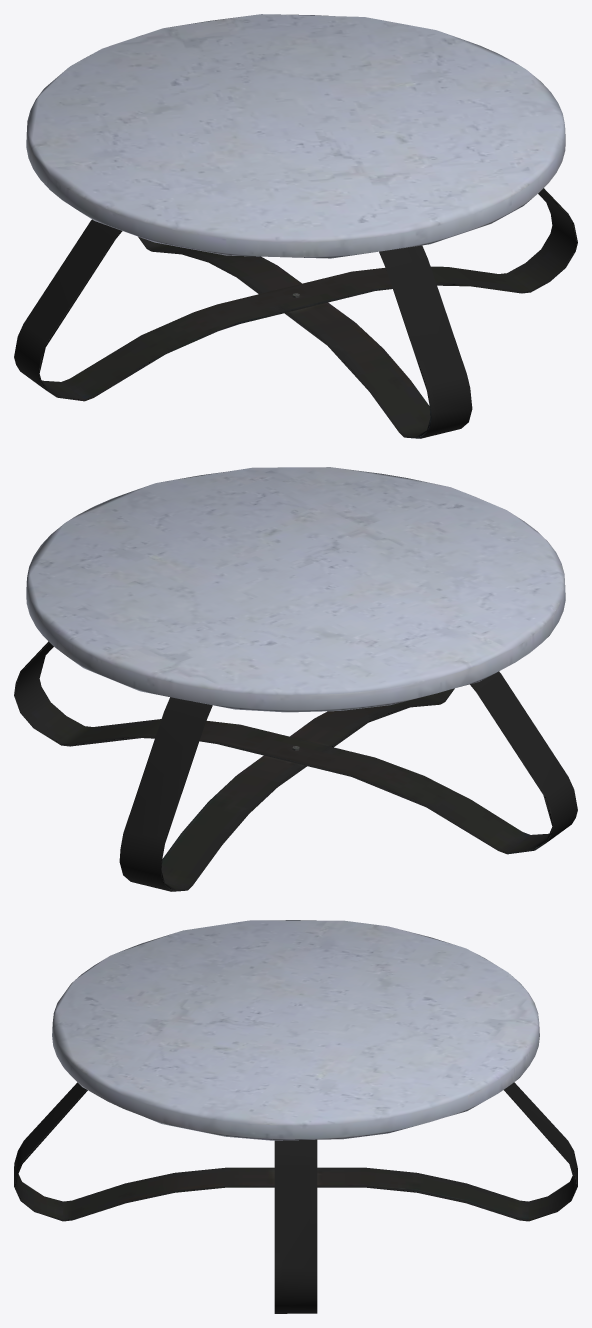
File: coffee_round.glb
The picture shows the model from 3 angles, top to bottom: view 1: azimuth 30°, elevation 25°; view 2: azimuth 150°, elevation 25°; view 3: azimuth 270°, elevation 25°; orthographic projection. The views are drawn at different scales.
Parts seen in each view (by area): view 1: coffee_table_round_01; view 2: coffee_table_round_01; view 3: coffee_table_round_01.
Boxes of the visible parts, left/top/right/bottom form: coffee_table_round_01: left=14, top=14, right=577, bottom=438; coffee_table_round_01: left=14, top=467, right=577, bottom=891; coffee_table_round_01: left=14, top=920, right=577, bottom=1313.
Bounding box in the file's own units: 1.3 × 0.4899 × 1.3.
Materials: 1 (1 with a texture image).
